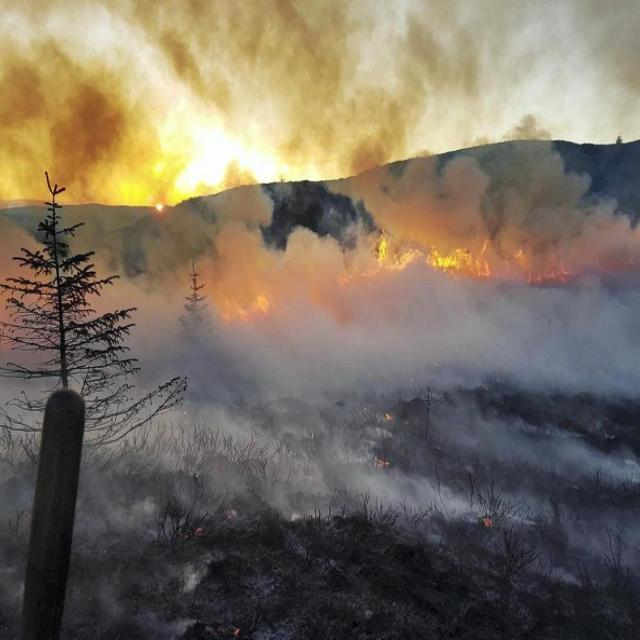Fire: (368, 220, 499, 286)
Smoke: (107, 0, 639, 287), (162, 159, 640, 403), (0, 363, 528, 537), (0, 0, 224, 244), (0, 206, 75, 340)
